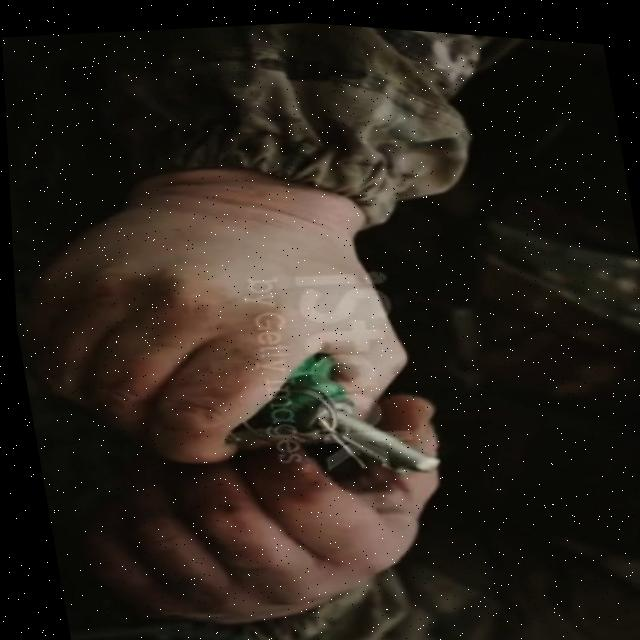grenade: (216, 339, 449, 493)
